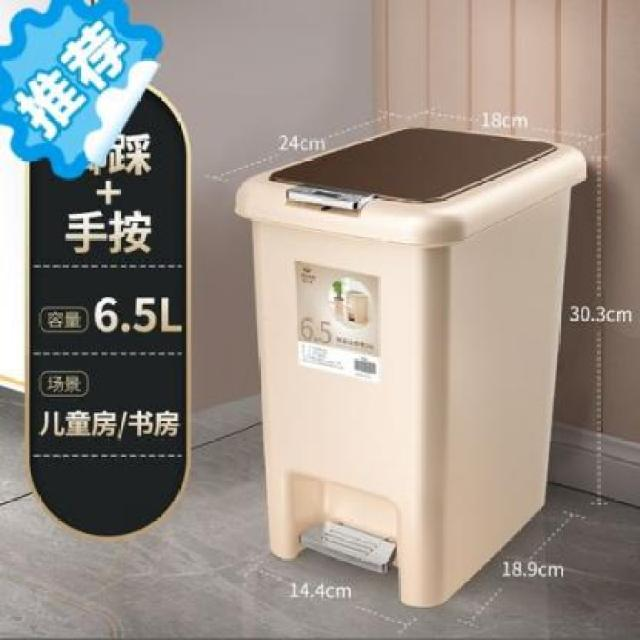dustbin: (229, 120, 590, 615)
